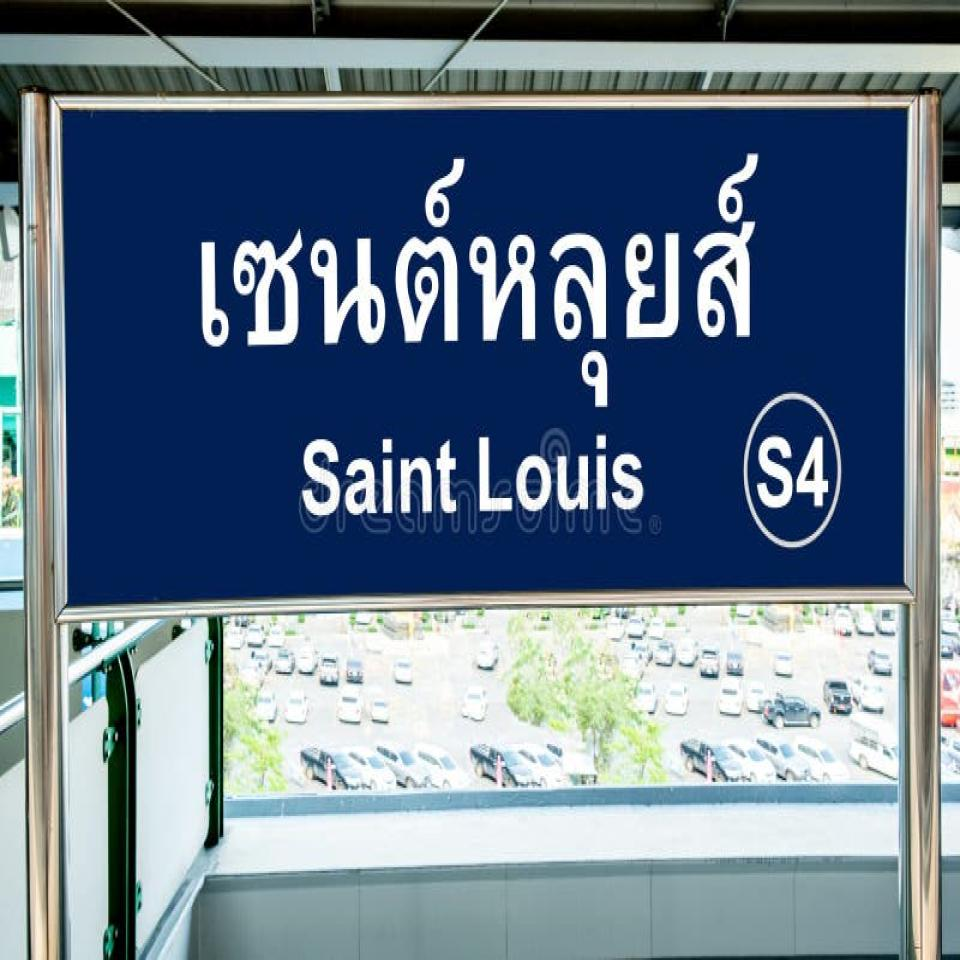signage: (51, 89, 920, 624)
